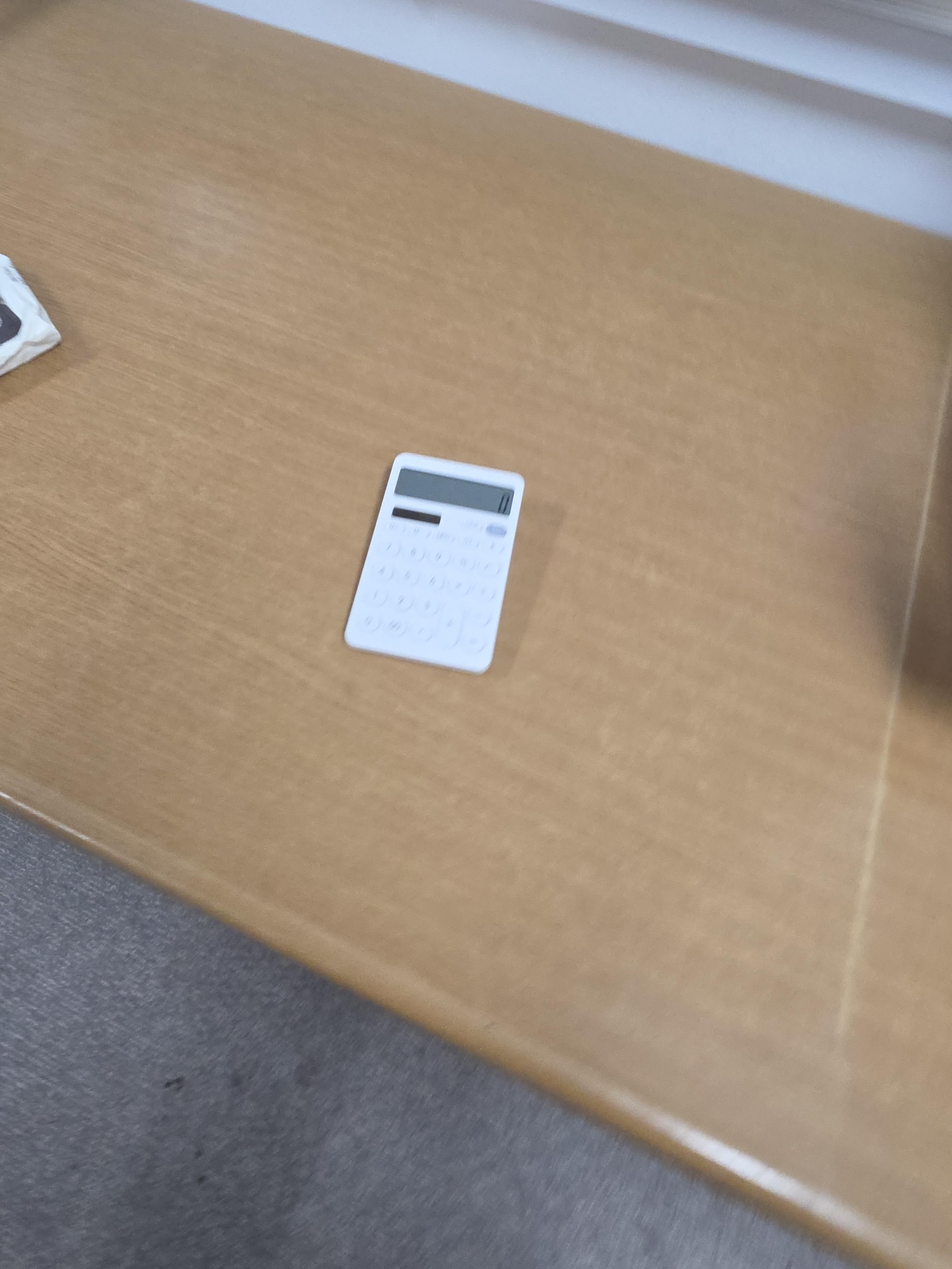calculator: (343, 452, 526, 675)
tissue: (0, 253, 63, 377)
